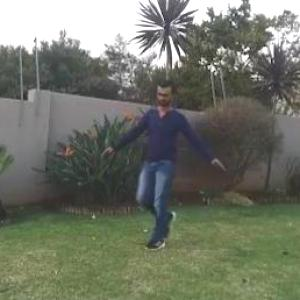land: (112, 86, 223, 228)
